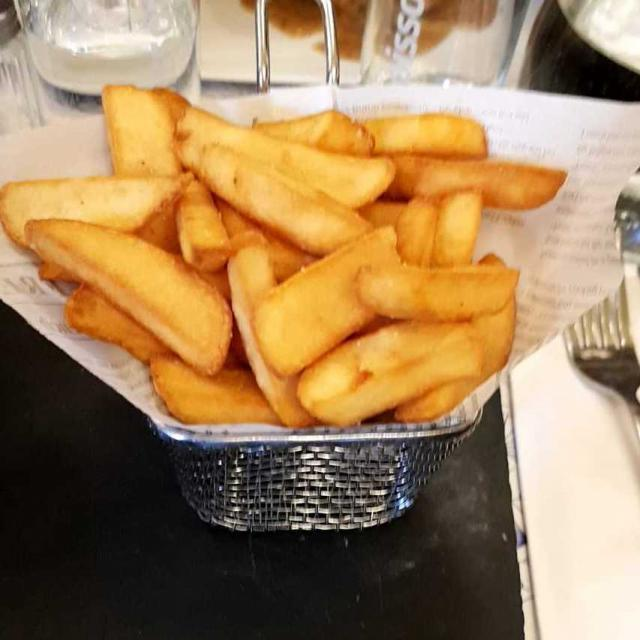chips-french-fries: (10, 87, 554, 424)
